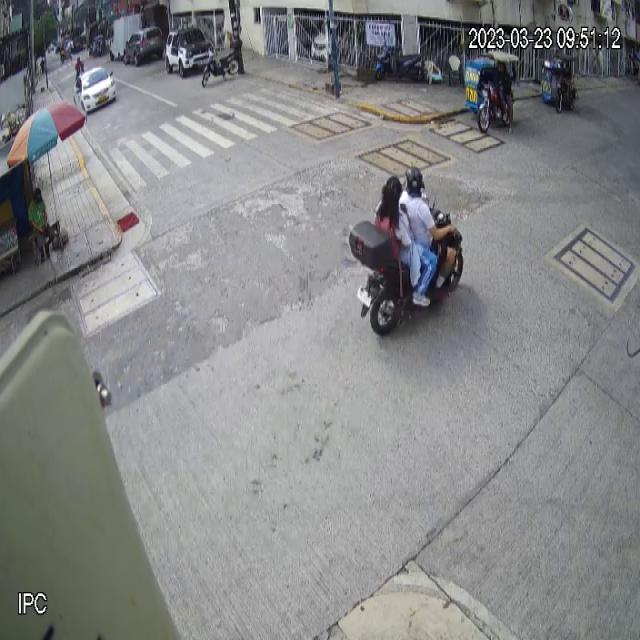Car: (72, 65, 116, 113)
Motorcycle: (374, 43, 425, 84), (202, 44, 242, 90)
Tricycle: (465, 50, 519, 134)
